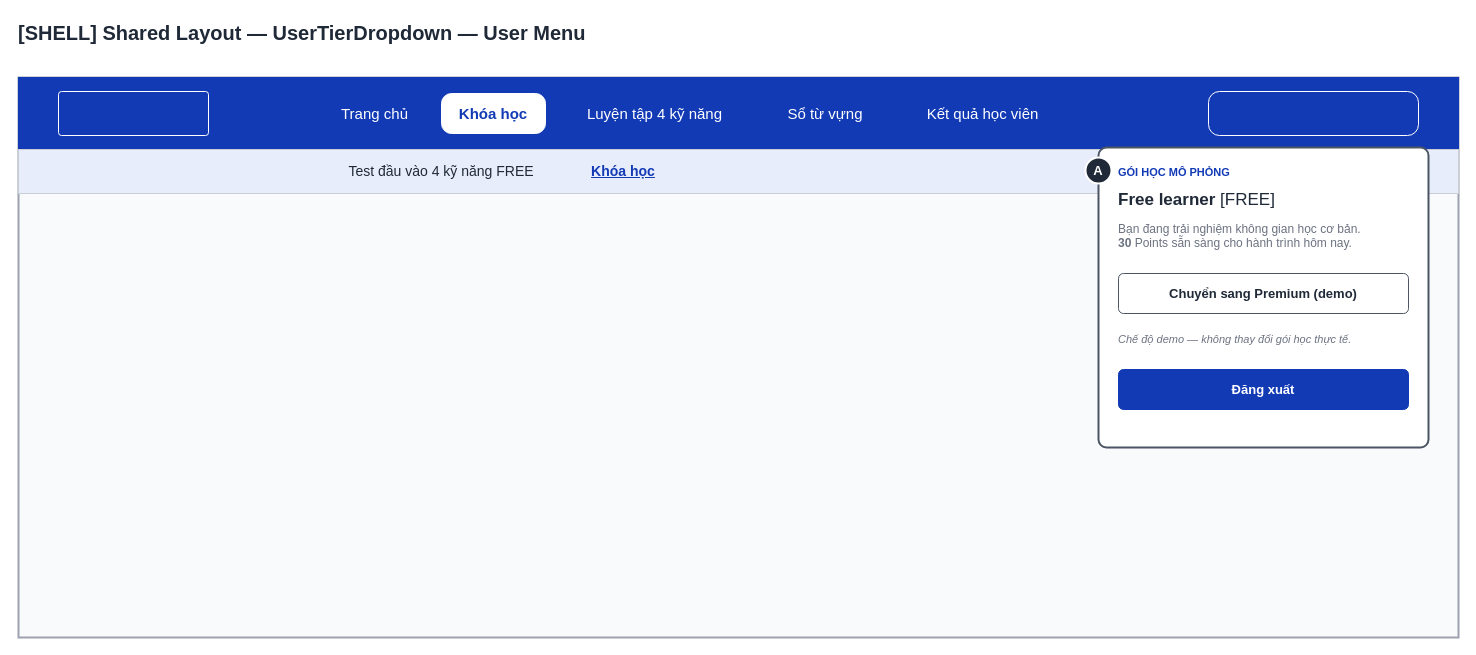
The diagram is 1476 pixels wide and 655 high, and some of its shapes have lost their labels. Here are the shapes that lost their labels. From the top down, the centre of each, then its label:
the point at 133,113: IELTS Space logo
the point at 1313,113: ◯ Học viên · 30 Points ▾
